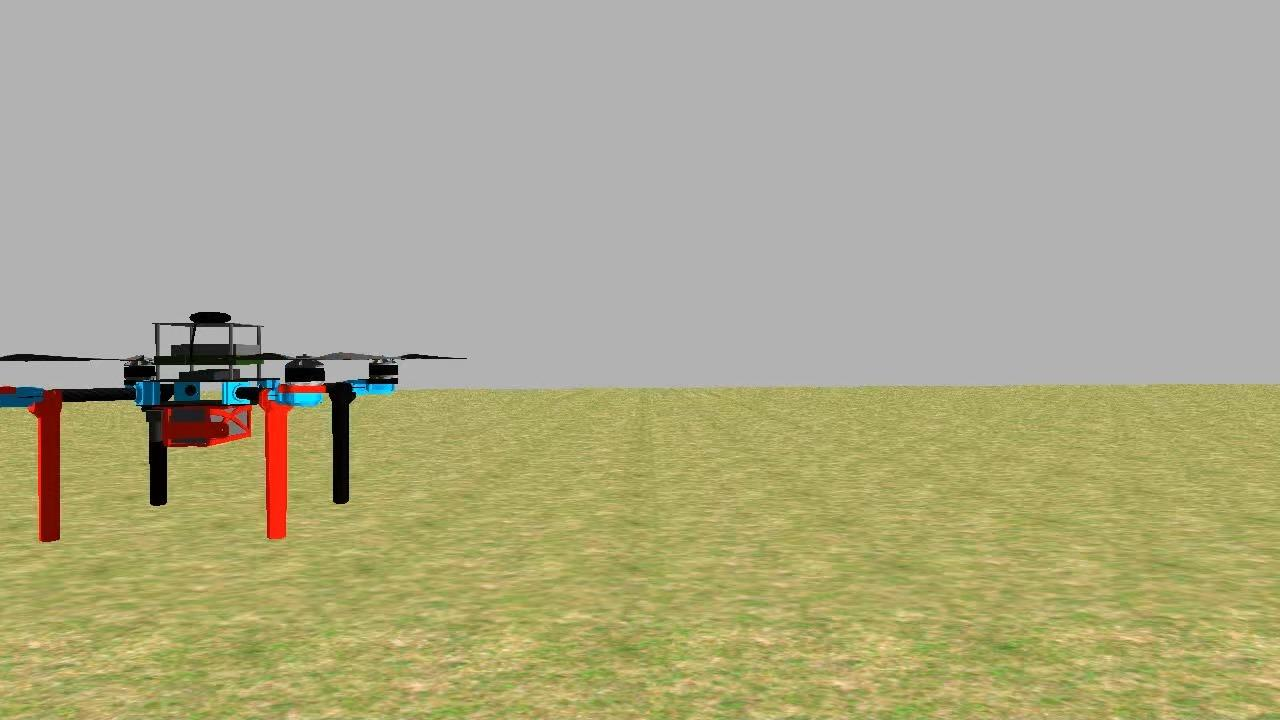UAV: (0, 299, 407, 554)
